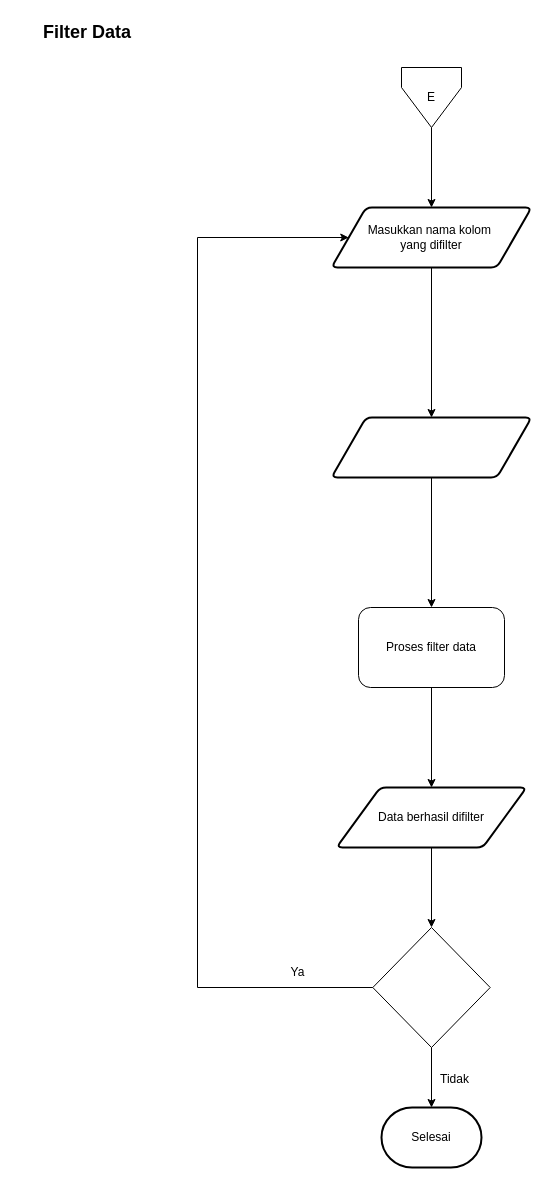
The diagram is 549 pixels wide and 1185 high, and some of its shapes have lost their labels. Here are the shapes that lost their labels. From the top down, the centre of each, then its label:
pixel 431 447: Masukkan data kolom yang difilter
pixel 431 987: Apakah lanjut?
